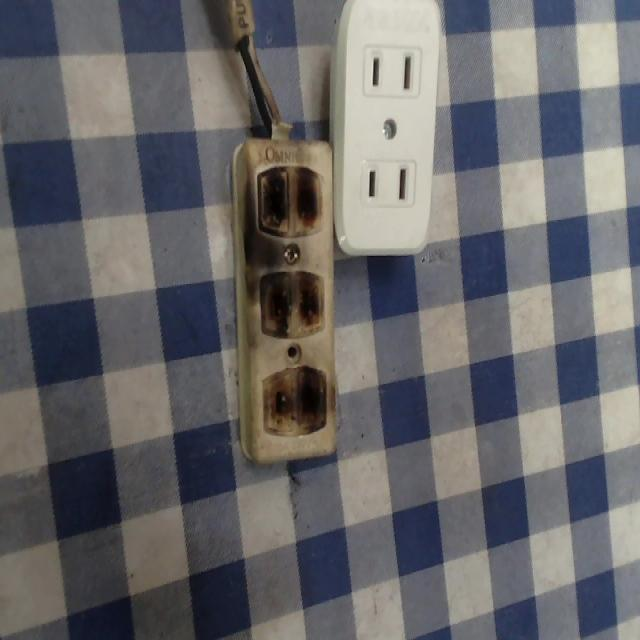-: (252, 160, 323, 239), (262, 363, 329, 444), (257, 265, 324, 340)
